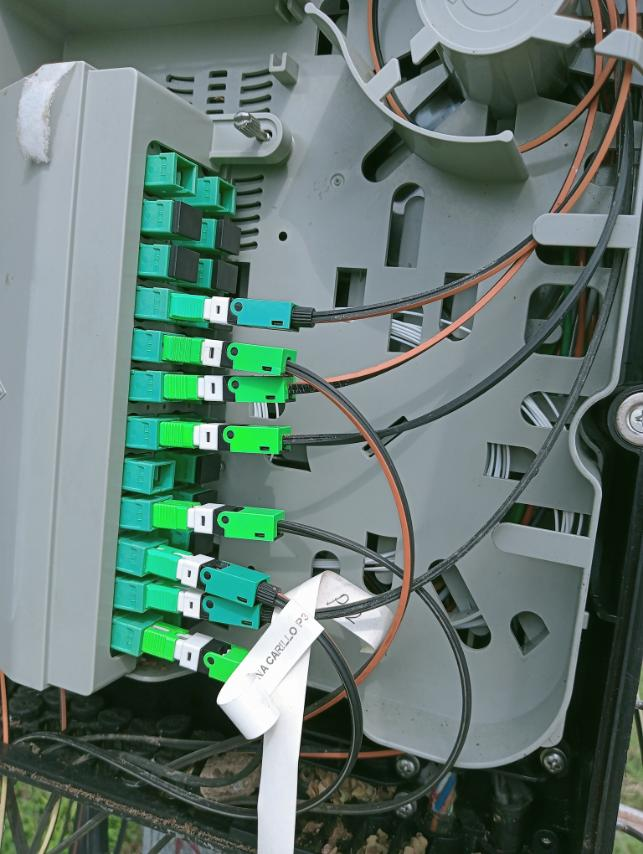no dust cap: (216, 178, 238, 214), (151, 460, 174, 493), (175, 156, 196, 192)
occupied: (123, 628, 294, 700), (138, 550, 303, 613), (129, 581, 299, 640), (165, 287, 336, 339), (150, 414, 320, 466), (152, 500, 322, 552), (157, 329, 327, 381), (158, 368, 328, 420)
vacant: (172, 201, 206, 241), (171, 245, 199, 282), (209, 297, 234, 334), (218, 220, 242, 257), (214, 259, 238, 296), (183, 598, 207, 629), (189, 530, 213, 561), (198, 454, 221, 485), (202, 418, 225, 449), (205, 376, 228, 407), (183, 568, 206, 599), (195, 487, 218, 518), (211, 341, 234, 371)
